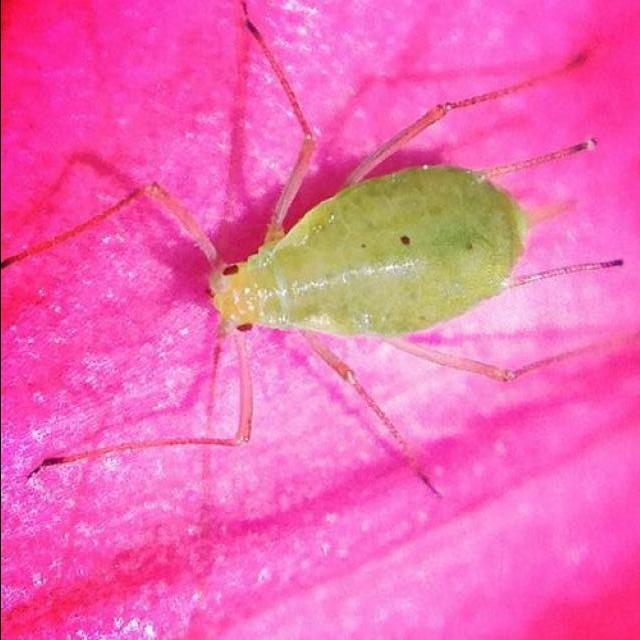aphid: (21, 48, 592, 508)
